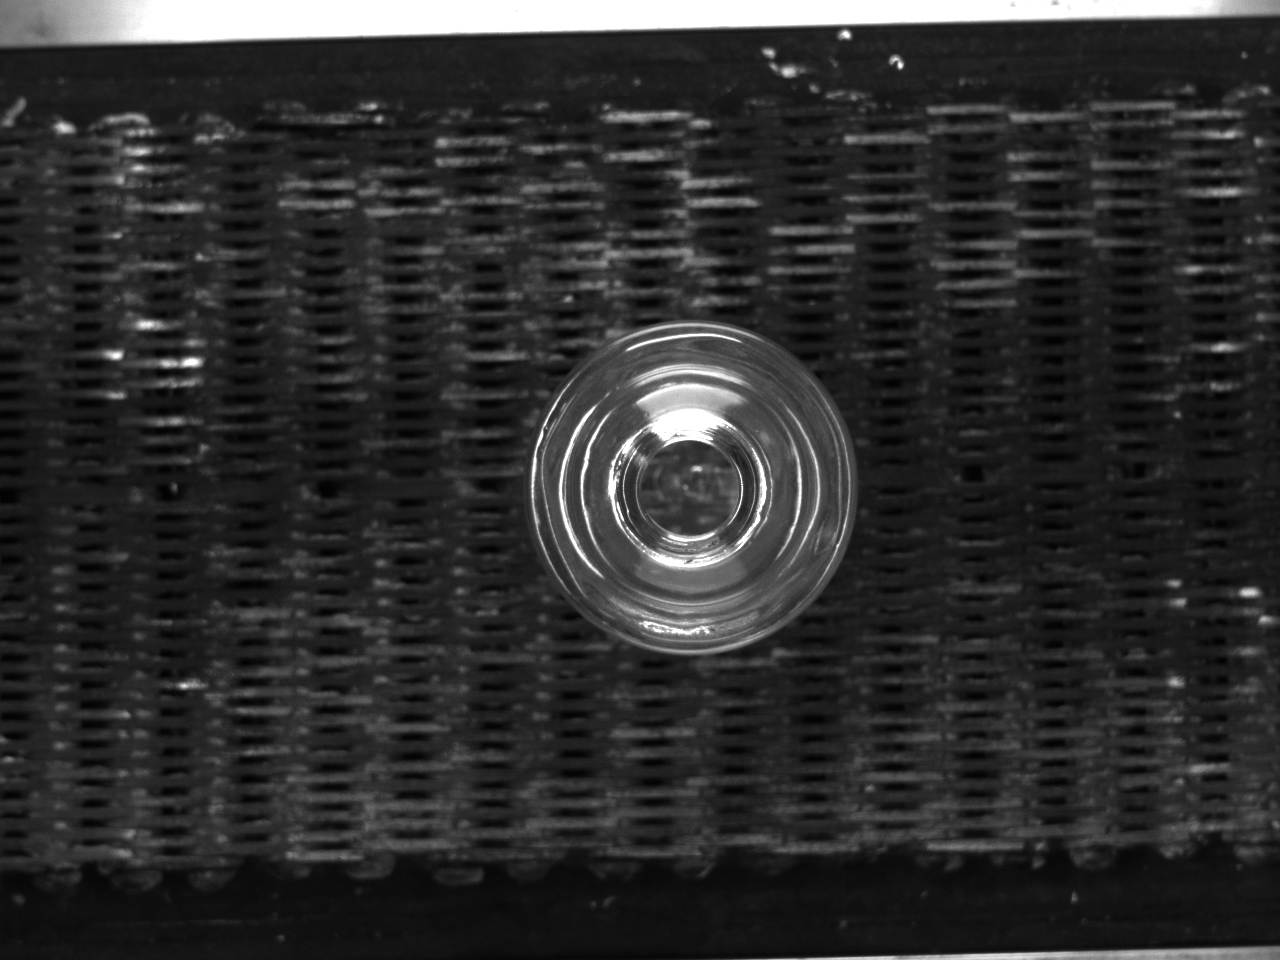bottleneck: (608, 409, 771, 562)
